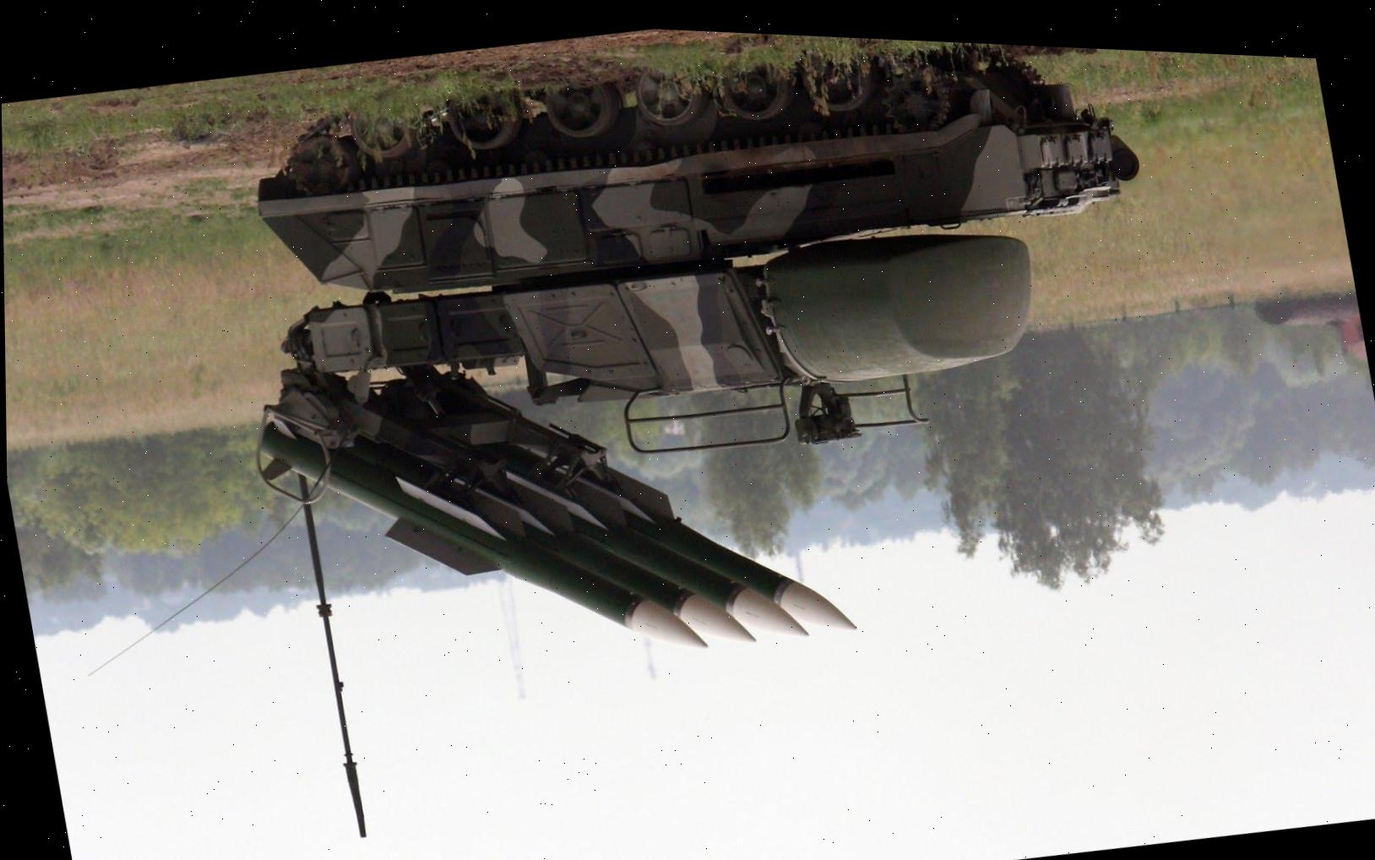rszo: (167, 7, 1257, 860)
